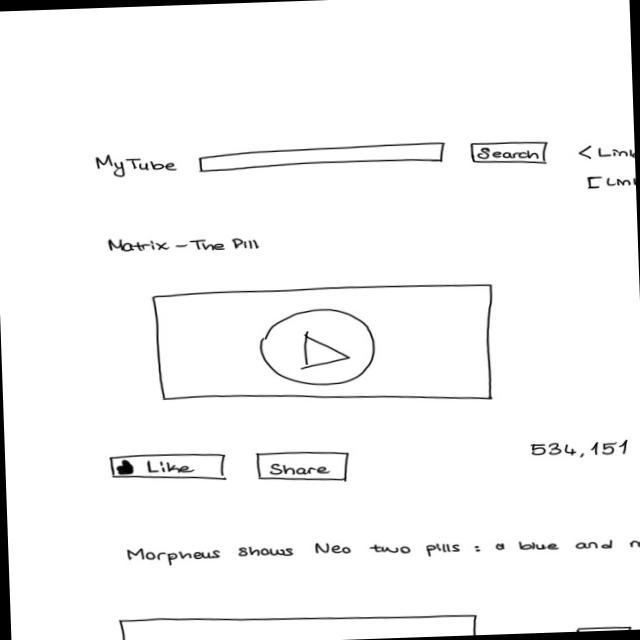button: (109, 451, 229, 486), (256, 448, 353, 486), (468, 140, 550, 168), (574, 624, 635, 633)
input: (197, 142, 448, 176)
label: (123, 528, 640, 571), (106, 231, 264, 259), (90, 151, 180, 182), (528, 437, 633, 463)
link: (574, 143, 636, 163), (584, 174, 637, 193)
textbox: (115, 605, 484, 640)
